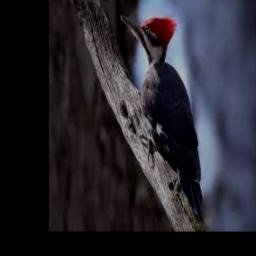Woodpecker: (121, 15, 204, 220)
